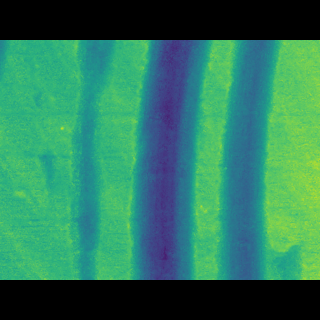Loch: (129, 68, 215, 250), (216, 69, 284, 250), (59, 69, 118, 250)
